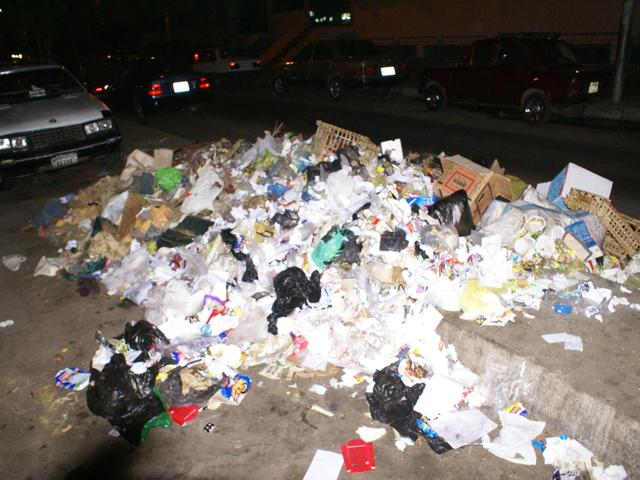garbage: (124, 166, 437, 367), (460, 179, 616, 294)
